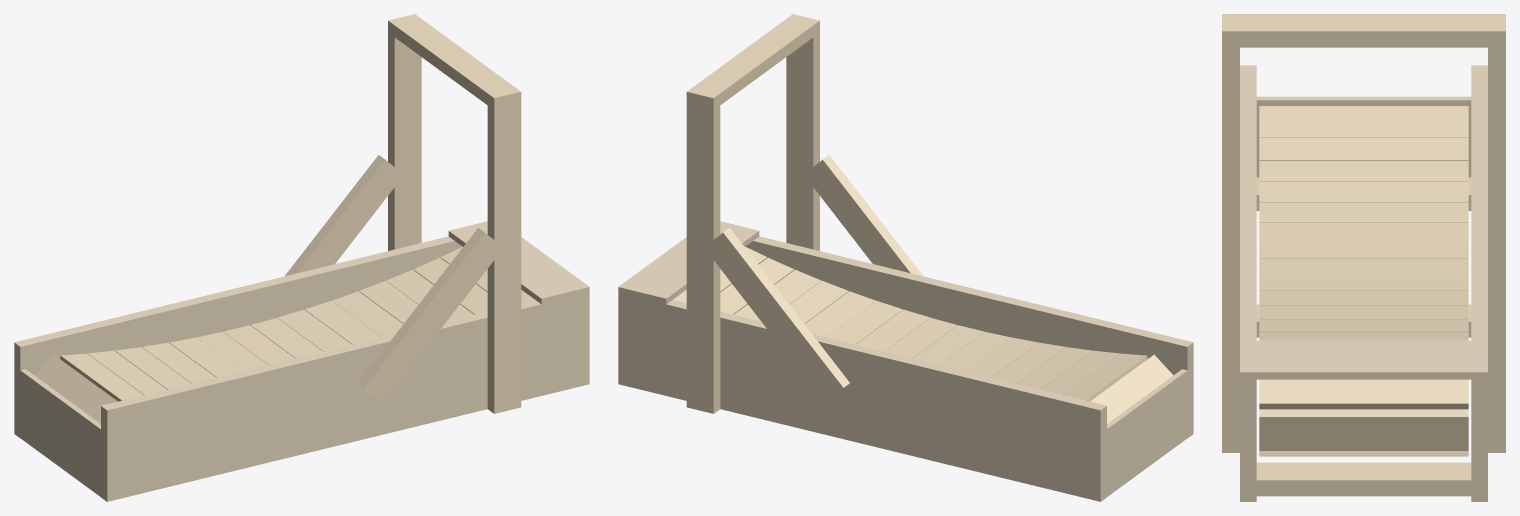
Rendered from natural.glb.
3 views of the same model, side by side, from view 1: azimuth 30°, elevation 25°; view 2: azimuth 150°, elevation 25°; view 3: azimuth 270°, elevation 25° (orthographic). The views are drawn at different scales.
Visible parts, largest first — view 1: rail.4, rail.2, upright.2, upright.1, upright_brace.2, back_guard.1, handrail.1, upright_brace.1, front_guard.1, slat.35, rail.1, rail.3 (+14 smaller); view 2: rail.1, rail.3, upright.1, upright.2, upright_brace.1, back_guard.1, handrail.1, upright_brace.2, front_guard.1, slat.35, rail.4, rail.2 (+14 smaller); view 3: front_guard.1, handrail.1, slat.17, tie_bar.3, upright.1, upright.2, slat.16, slat.1, slat.2, slat.3, slat.4, slat.5 (+15 smaller).
Boxes of the visible parts, box(x1,y1,x2,y2) form: rail.4: box(104, 293, 589, 501); rail.2: box(17, 238, 462, 438); upright.2: box(487, 104, 521, 413); upright.1: box(388, 33, 421, 250); upright_brace.2: box(358, 227, 503, 402); back_guard.1: box(20, 369, 100, 496); handrail.1: box(388, 14, 521, 110); upright_brace.1: box(285, 155, 403, 276); front_guard.1: box(448, 221, 589, 304); slat.35: box(34, 354, 117, 423); rail.1: box(14, 236, 450, 435); rail.3: box(101, 300, 537, 499); rail.1: box(618, 293, 1103, 501); rail.3: box(745, 238, 1190, 438); upright.1: box(686, 104, 720, 413); upright.2: box(786, 33, 819, 250); upright_brace.1: box(708, 227, 849, 402); back_guard.1: box(1107, 369, 1187, 496); handrail.1: box(686, 14, 819, 110); upright_brace.2: box(804, 155, 922, 276); front_guard.1: box(618, 221, 759, 304); slat.35: box(1090, 354, 1173, 423); rail.4: box(757, 236, 1193, 435); rail.2: box(670, 300, 1106, 499); front_guard.1: box(1240, 340, 1487, 379); handrail.1: box(1222, 14, 1505, 47); slat.17: box(1259, 409, 1468, 450); tie_bar.3: box(1256, 462, 1471, 496); upright.1: box(1488, 47, 1505, 452); upright.2: box(1222, 47, 1239, 452); slat.16: box(1259, 379, 1468, 409); slat.1: box(1259, 114, 1468, 137); slat.2: box(1259, 137, 1468, 160); slat.3: box(1259, 160, 1468, 181); slat.4: box(1259, 182, 1468, 202); slat.5: box(1259, 202, 1468, 222).
Bounding box in the file's own units: 1.6 × 1 × 0.61.
